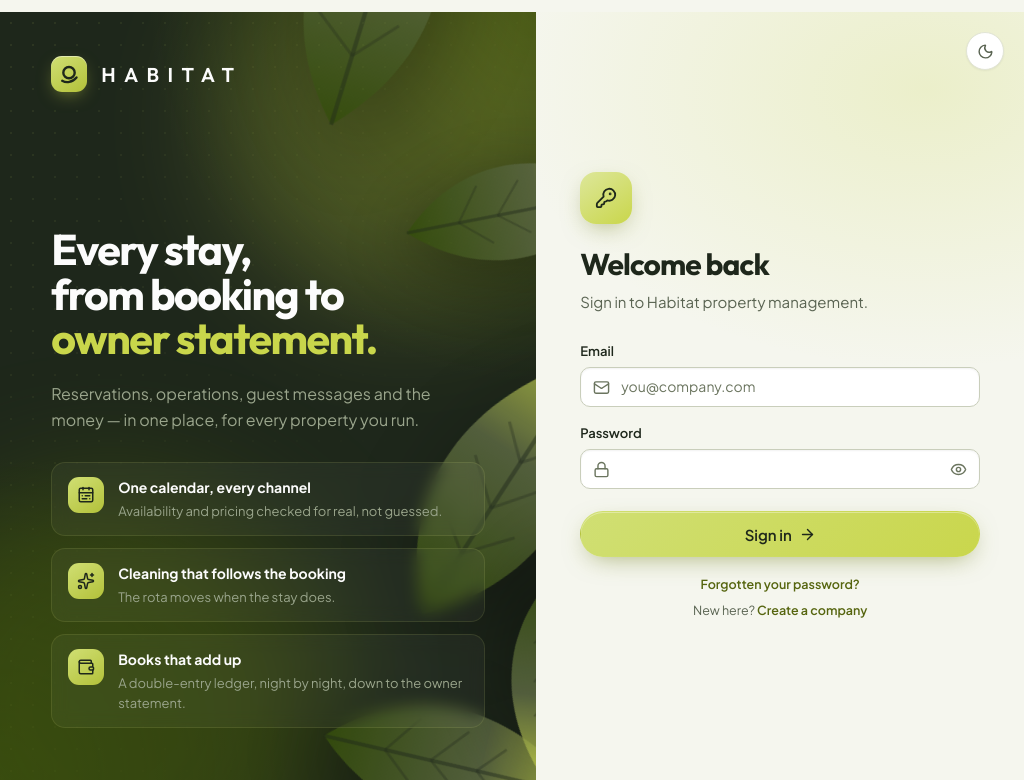
Scenario: the second factor › asks for a code and stores nothing yet
Step 1. Type "ana@habitat.test" into the field labelled "Email" → (780, 387), box [580,367,980,407]
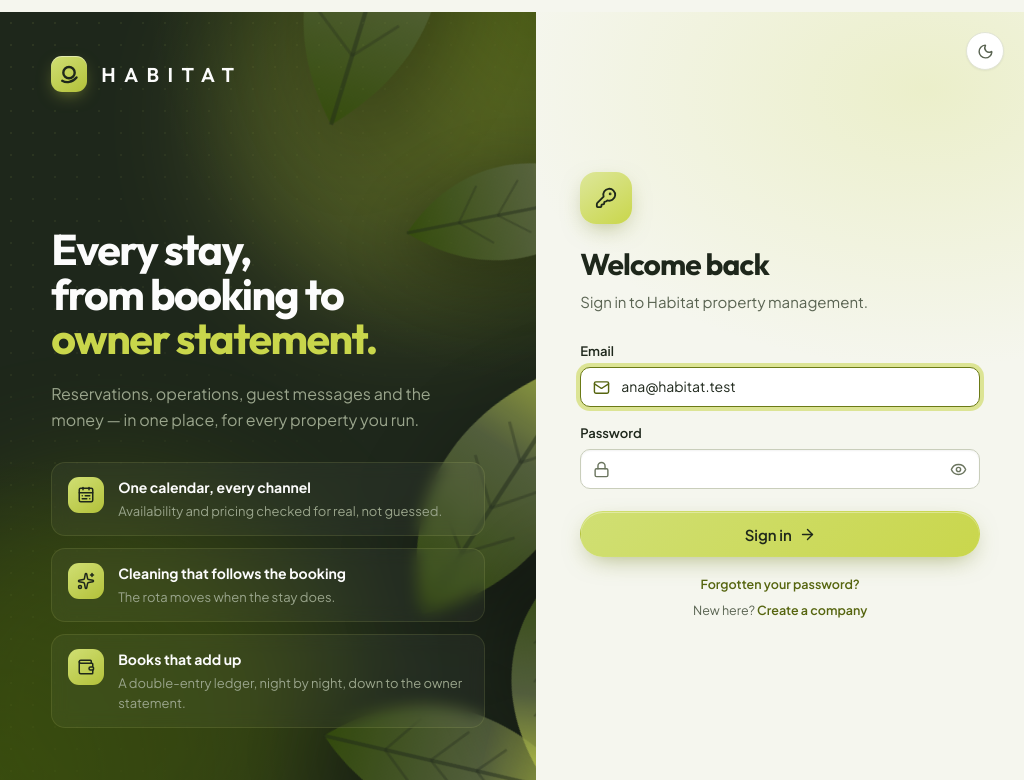
Step 2. Type "correct-horse" into the password field labelled "Password" → (780, 469), box [580,449,980,489]
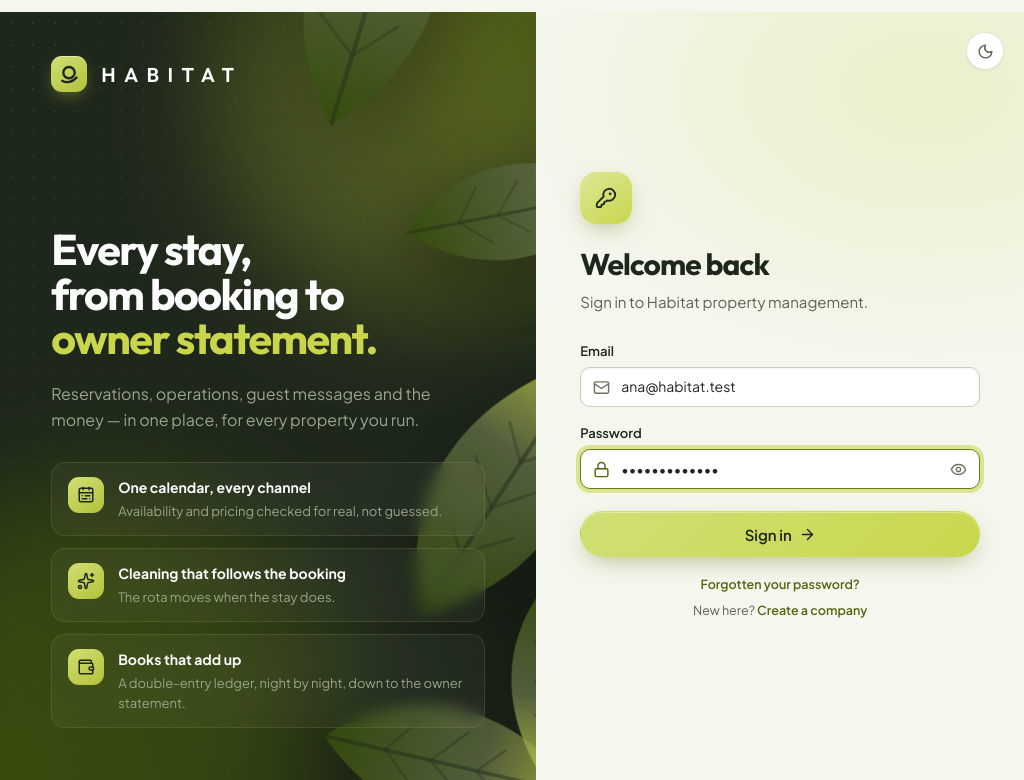
Step 3. Click the button "Sign in" → (780, 534), box [580,511,980,557]
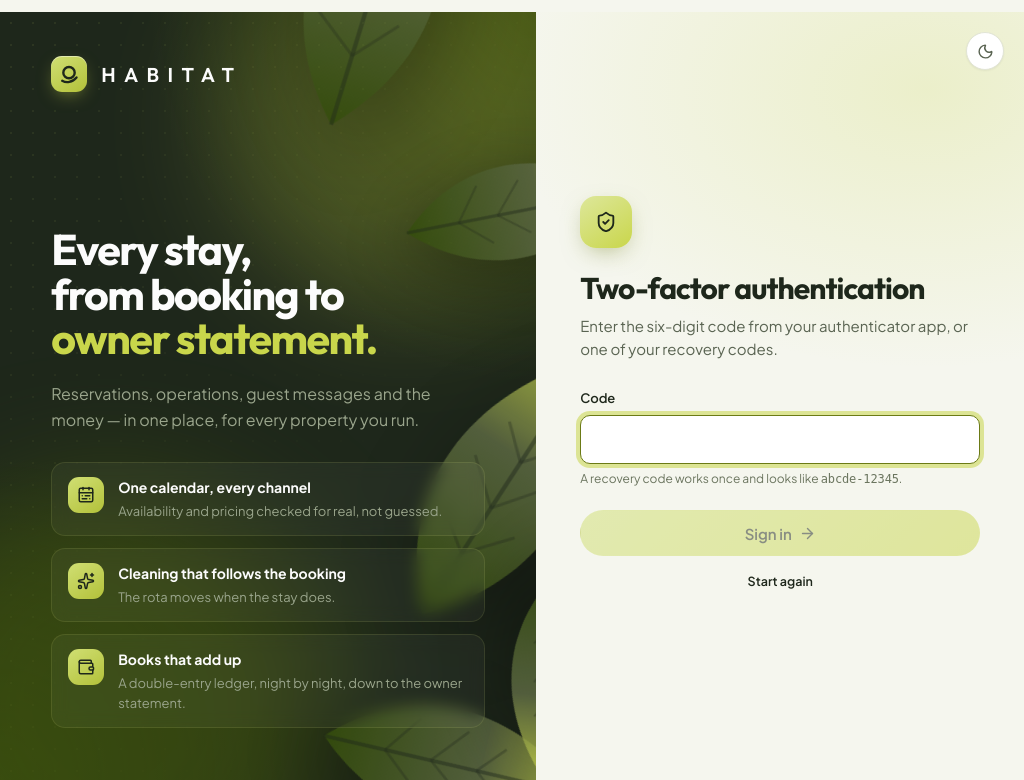
expect the field labelled "Code" is shown: met, box [580,414,980,464]
